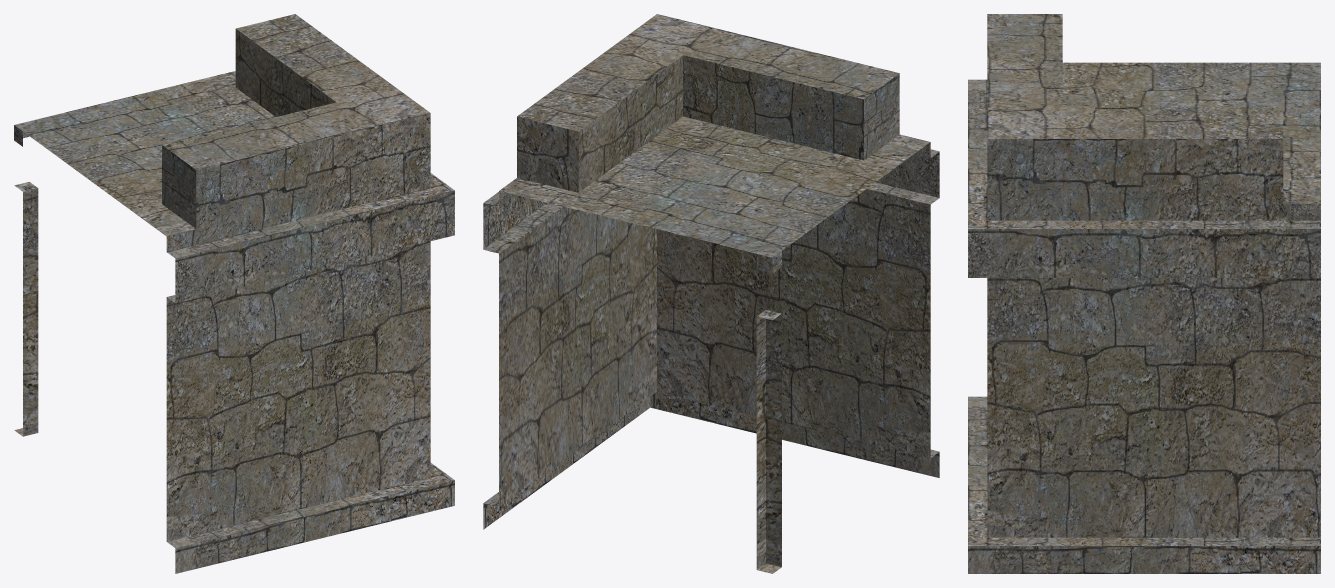
The model's file is Section3.FBX.
3 renders of one model, left to right at view 1: azimuth 30°, elevation 25°; view 2: azimuth 150°, elevation 25°; view 3: azimuth 270°, elevation 25°, orthographic. The views are drawn at different scales.
Visible parts, largest first — view 1: ClaimedCo102SE001; view 2: ClaimedCo102SE001; view 3: ClaimedCo102SE001.
Part boxes in pixels (bbox=[...]): ClaimedCo102SE001: bbox=[14, 14, 454, 573]; ClaimedCo102SE001: bbox=[483, 14, 939, 573]; ClaimedCo102SE001: bbox=[968, 14, 1320, 573].
Size of the model in its own units: 100 by 133 by 100.
